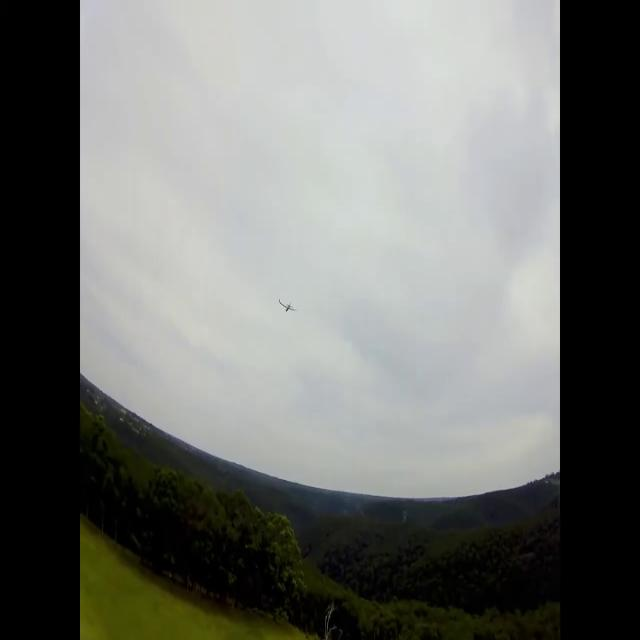iha: (280, 300, 296, 313)
